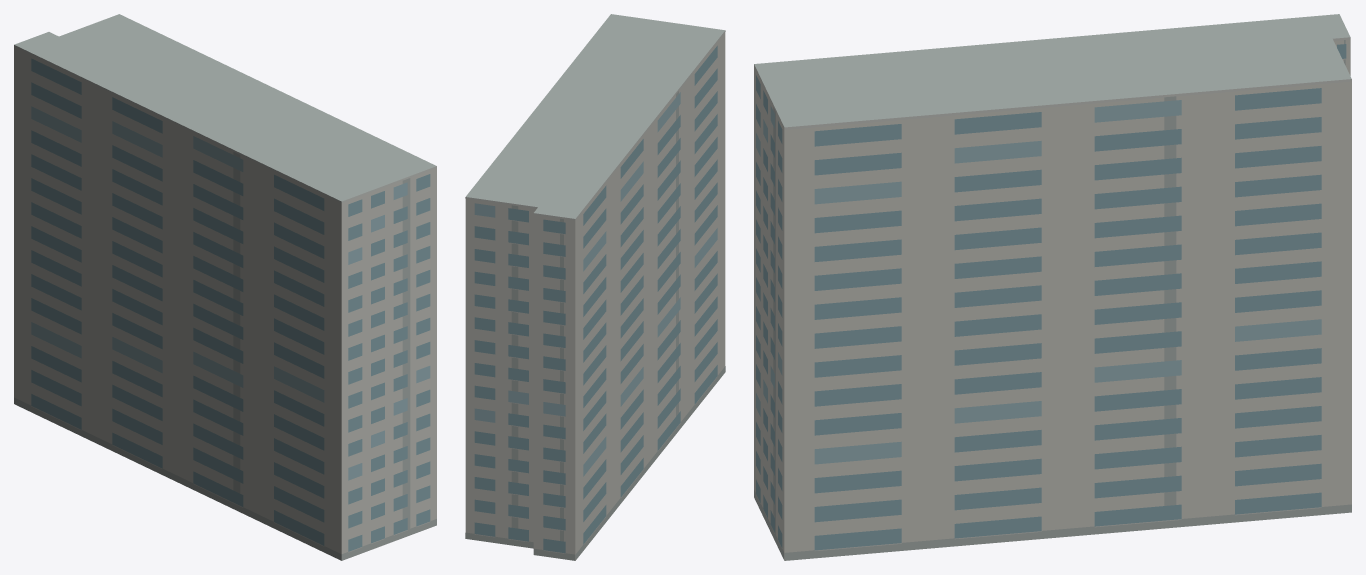
The model's file is residential-ff9638fb-80ef-468d-b3d5-be4b86257d51.glb.
3 views of the same model, side by side, from view 1: azimuth 30°, elevation 25°; view 2: azimuth 150°, elevation 25°; view 3: azimuth 270°, elevation 25° (orthographic). The views are drawn at different scales.
Parts seen in each view (by area): view 1: residential-ff9638fb-80ef-468d-b3d5-be4b86257d51.tmp; view 2: residential-ff9638fb-80ef-468d-b3d5-be4b86257d51.tmp; view 3: residential-ff9638fb-80ef-468d-b3d5-be4b86257d51.tmp.
Part boxes in pixels (x1,y1,x2,y2): residential-ff9638fb-80ef-468d-b3d5-be4b86257d51.tmp: (14, 14, 436, 560); residential-ff9638fb-80ef-468d-b3d5-be4b86257d51.tmp: (465, 14, 725, 560); residential-ff9638fb-80ef-468d-b3d5-be4b86257d51.tmp: (754, 14, 1351, 560).
Bounding box in the file's own units: 25.69 × 45.75 × 57.19.
